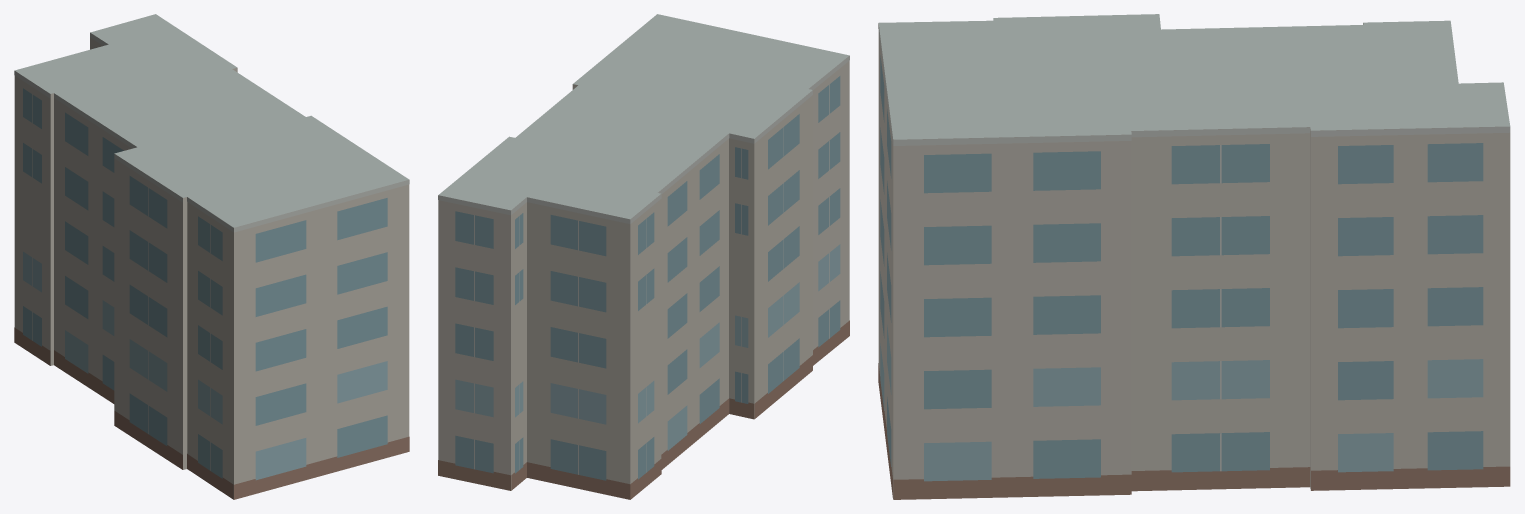
File: survey-upis-32927949.glb
The picture shows the model from 3 angles, left to right: view 1: azimuth 30°, elevation 25°; view 2: azimuth 150°, elevation 25°; view 3: azimuth 270°, elevation 25°; orthographic projection. The views are drawn at different scales.
Parts seen in each view (by area): view 1: survey-upis-32927949.tmp; view 2: survey-upis-32927949.tmp; view 3: survey-upis-32927949.tmp.
Part boxes in pixels (left/top/right/bottom): survey-upis-32927949.tmp: left=14, top=14, right=409, bottom=499; survey-upis-32927949.tmp: left=438, top=14, right=849, bottom=499; survey-upis-32927949.tmp: left=878, top=14, right=1510, bottom=499.
Bounding box in the file's own units: 10.42 × 13.9 × 22.11.
